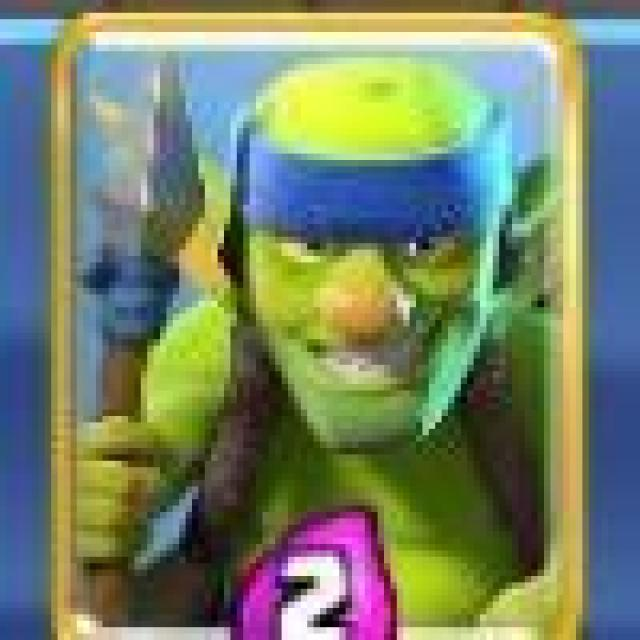Spear_Goblins: (59, 23, 587, 640)
